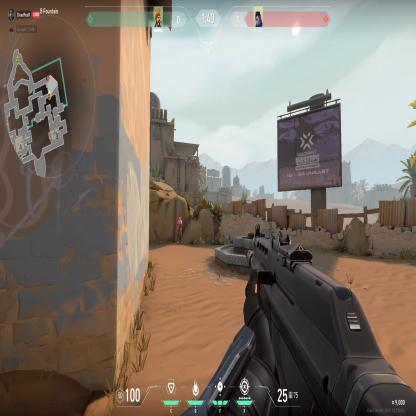enemy: (176, 215, 183, 245)
